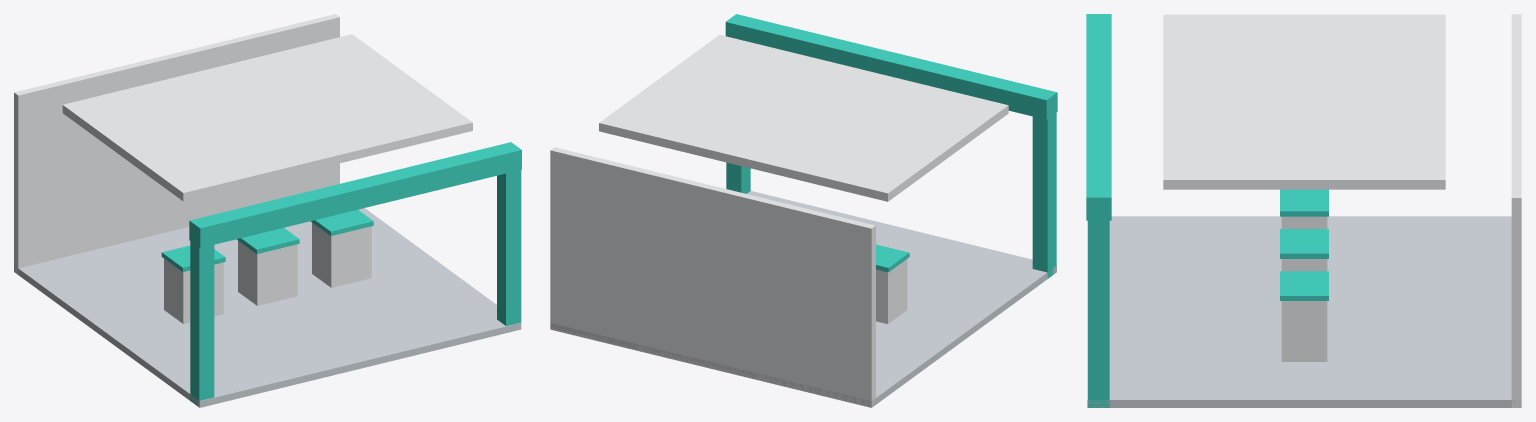
3 renders of one model, left to right at view 1: azimuth 30°, elevation 25°; view 2: azimuth 150°, elevation 25°; view 3: azimuth 270°, elevation 25°, orthographic. The views are drawn at different scales.
Visible parts, largest first — view 1: Exhibition Booth Concept; view 2: Exhibition Booth Concept; view 3: Exhibition Booth Concept.
Boxes of the visible parts, box(x1,y1,x2,y2) form: Exhibition Booth Concept: box(14, 14, 521, 407); Exhibition Booth Concept: box(550, 14, 1057, 407); Exhibition Booth Concept: box(1086, 14, 1521, 407).
Size of the model in its own units: 6 by 3.34 by 6.02.
